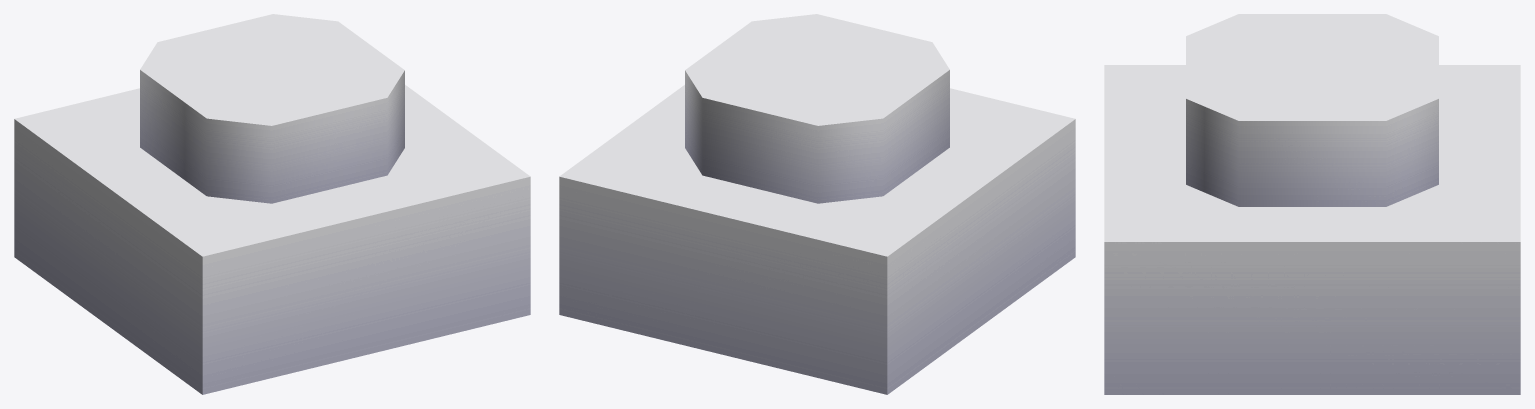
Rendered from bevel-lq-plate-1x1.glb.
The picture shows the model from 3 angles, left to right: view 1: azimuth 30°, elevation 25°; view 2: azimuth 150°, elevation 25°; view 3: azimuth 270°, elevation 25°; orthographic projection. The views are drawn at different scales.
Visible parts, largest first — view 1: bevel-lq-plate-1x1; view 2: bevel-lq-plate-1x1; view 3: bevel-lq-plate-1x1.
Boxes of the visible parts, bbox=[...] form: bevel-lq-plate-1x1: bbox=[14, 14, 530, 394]; bevel-lq-plate-1x1: bbox=[559, 14, 1075, 394]; bevel-lq-plate-1x1: bbox=[1104, 14, 1520, 394].
Bounding box in the file's own units: 0.0795 × 0.05 × 0.079.
Materials: 1 (1 with a texture image).
